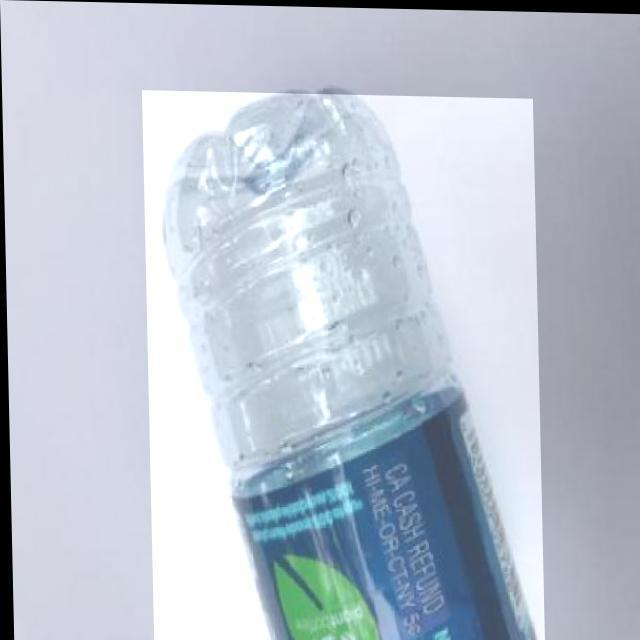trash: (142, 82, 542, 640)
